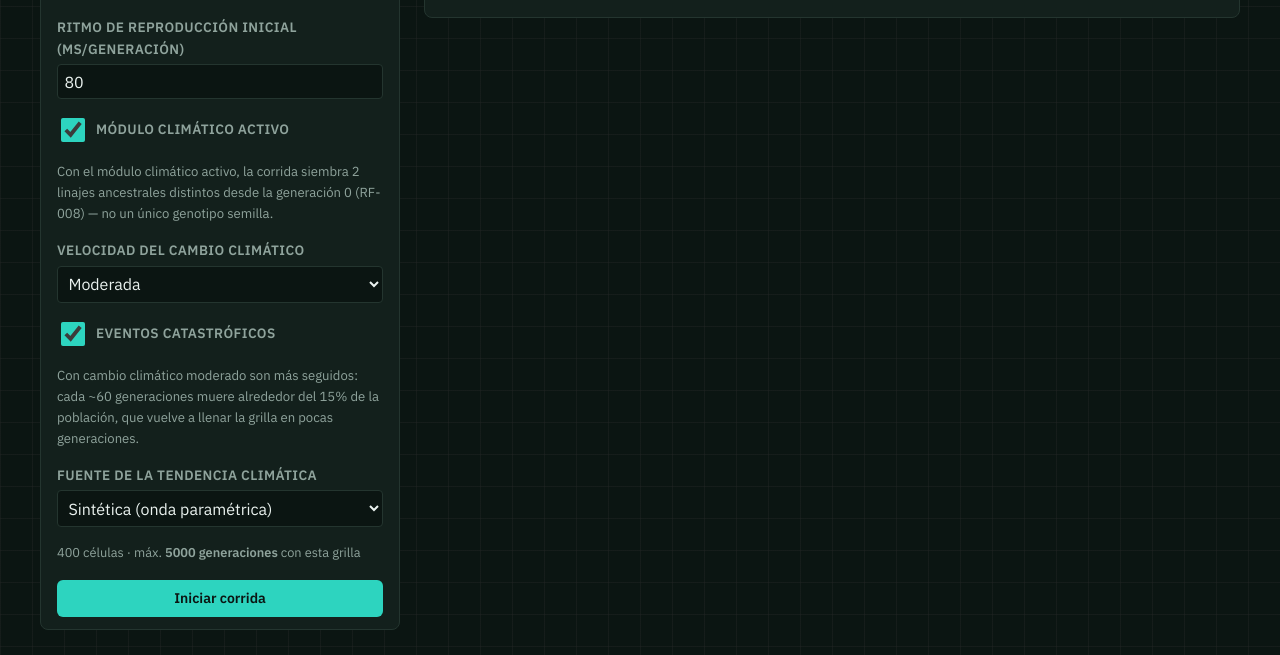
Test: <App /> › muestra un mensaje de error si la creación de la corrida falla
This screenshot has width=1280, height=655.
(page scrolled)
Click the button "Iniciar corrida": (220, 598) [57,580,383,617]
(page scrolled)
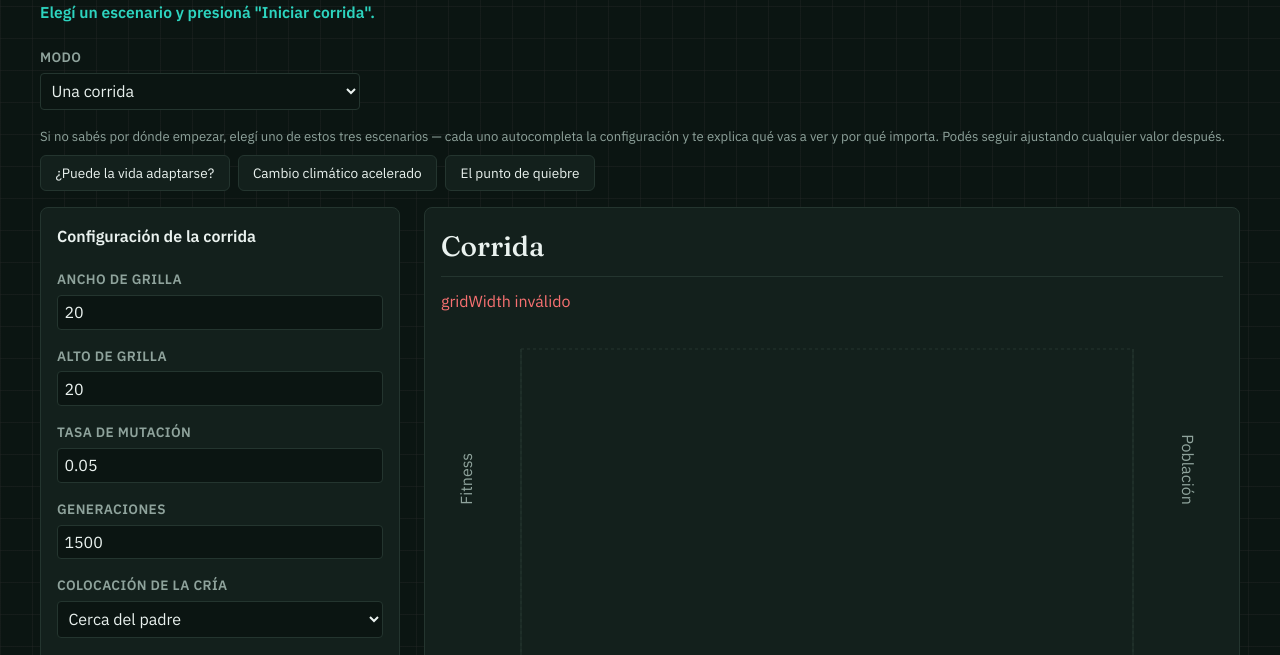
Now the text "gridWidth inválido" is shown, box [441,291,570,311]
